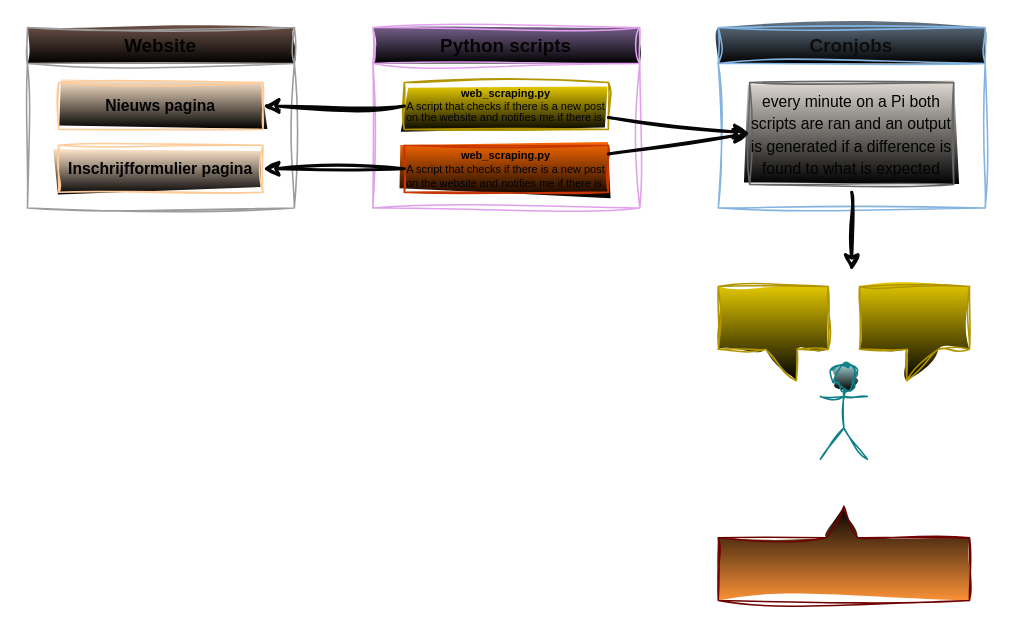
The diagram is 1013 pixels wide and 628 high, and some of its shapes have lost their labels. Each missing label, with the centre of its shape:
"De nieuwe fase met nieuwe huizen staat online en je bent ingeschreven!" belongs at point (843, 553).
"Er is nieuws!" belongs at point (913, 333).
"Helaas nog geen nieuws" belongs at point (772, 333).
"Telegram bot" belongs at point (843, 411).
